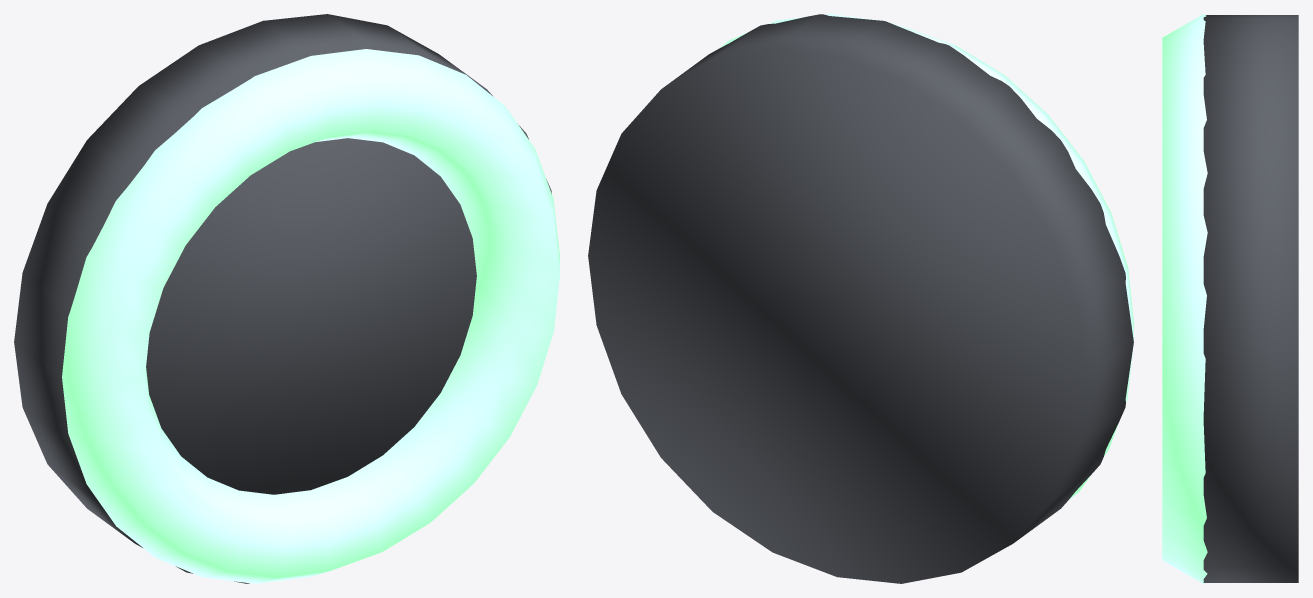
The model's file is beacon_status_ring.glb.
The picture shows the model from 3 angles, left to right: view 1: azimuth 30°, elevation 25°; view 2: azimuth 150°, elevation 25°; view 3: azimuth 270°, elevation 25°; orthographic projection.
Parts seen in each view (by area): view 1: GD_beacon_status_ring__m1, GD_beacon_status_ring__m0; view 2: GD_beacon_status_ring__m1, GD_beacon_status_ring__m0; view 3: GD_beacon_status_ring__m1, GD_beacon_status_ring__m0.
Boxes of the visible parts, x1,y1,x2,y2 form: GD_beacon_status_ring__m1: (14, 14, 551, 583); GD_beacon_status_ring__m0: (62, 49, 559, 583); GD_beacon_status_ring__m1: (588, 14, 1133, 583); GD_beacon_status_ring__m0: (719, 14, 1133, 499); GD_beacon_status_ring__m1: (1203, 15, 1298, 582); GD_beacon_status_ring__m0: (1162, 14, 1207, 583).
Size of the model in its own units: 0.24 by 0.24 by 0.0573.
